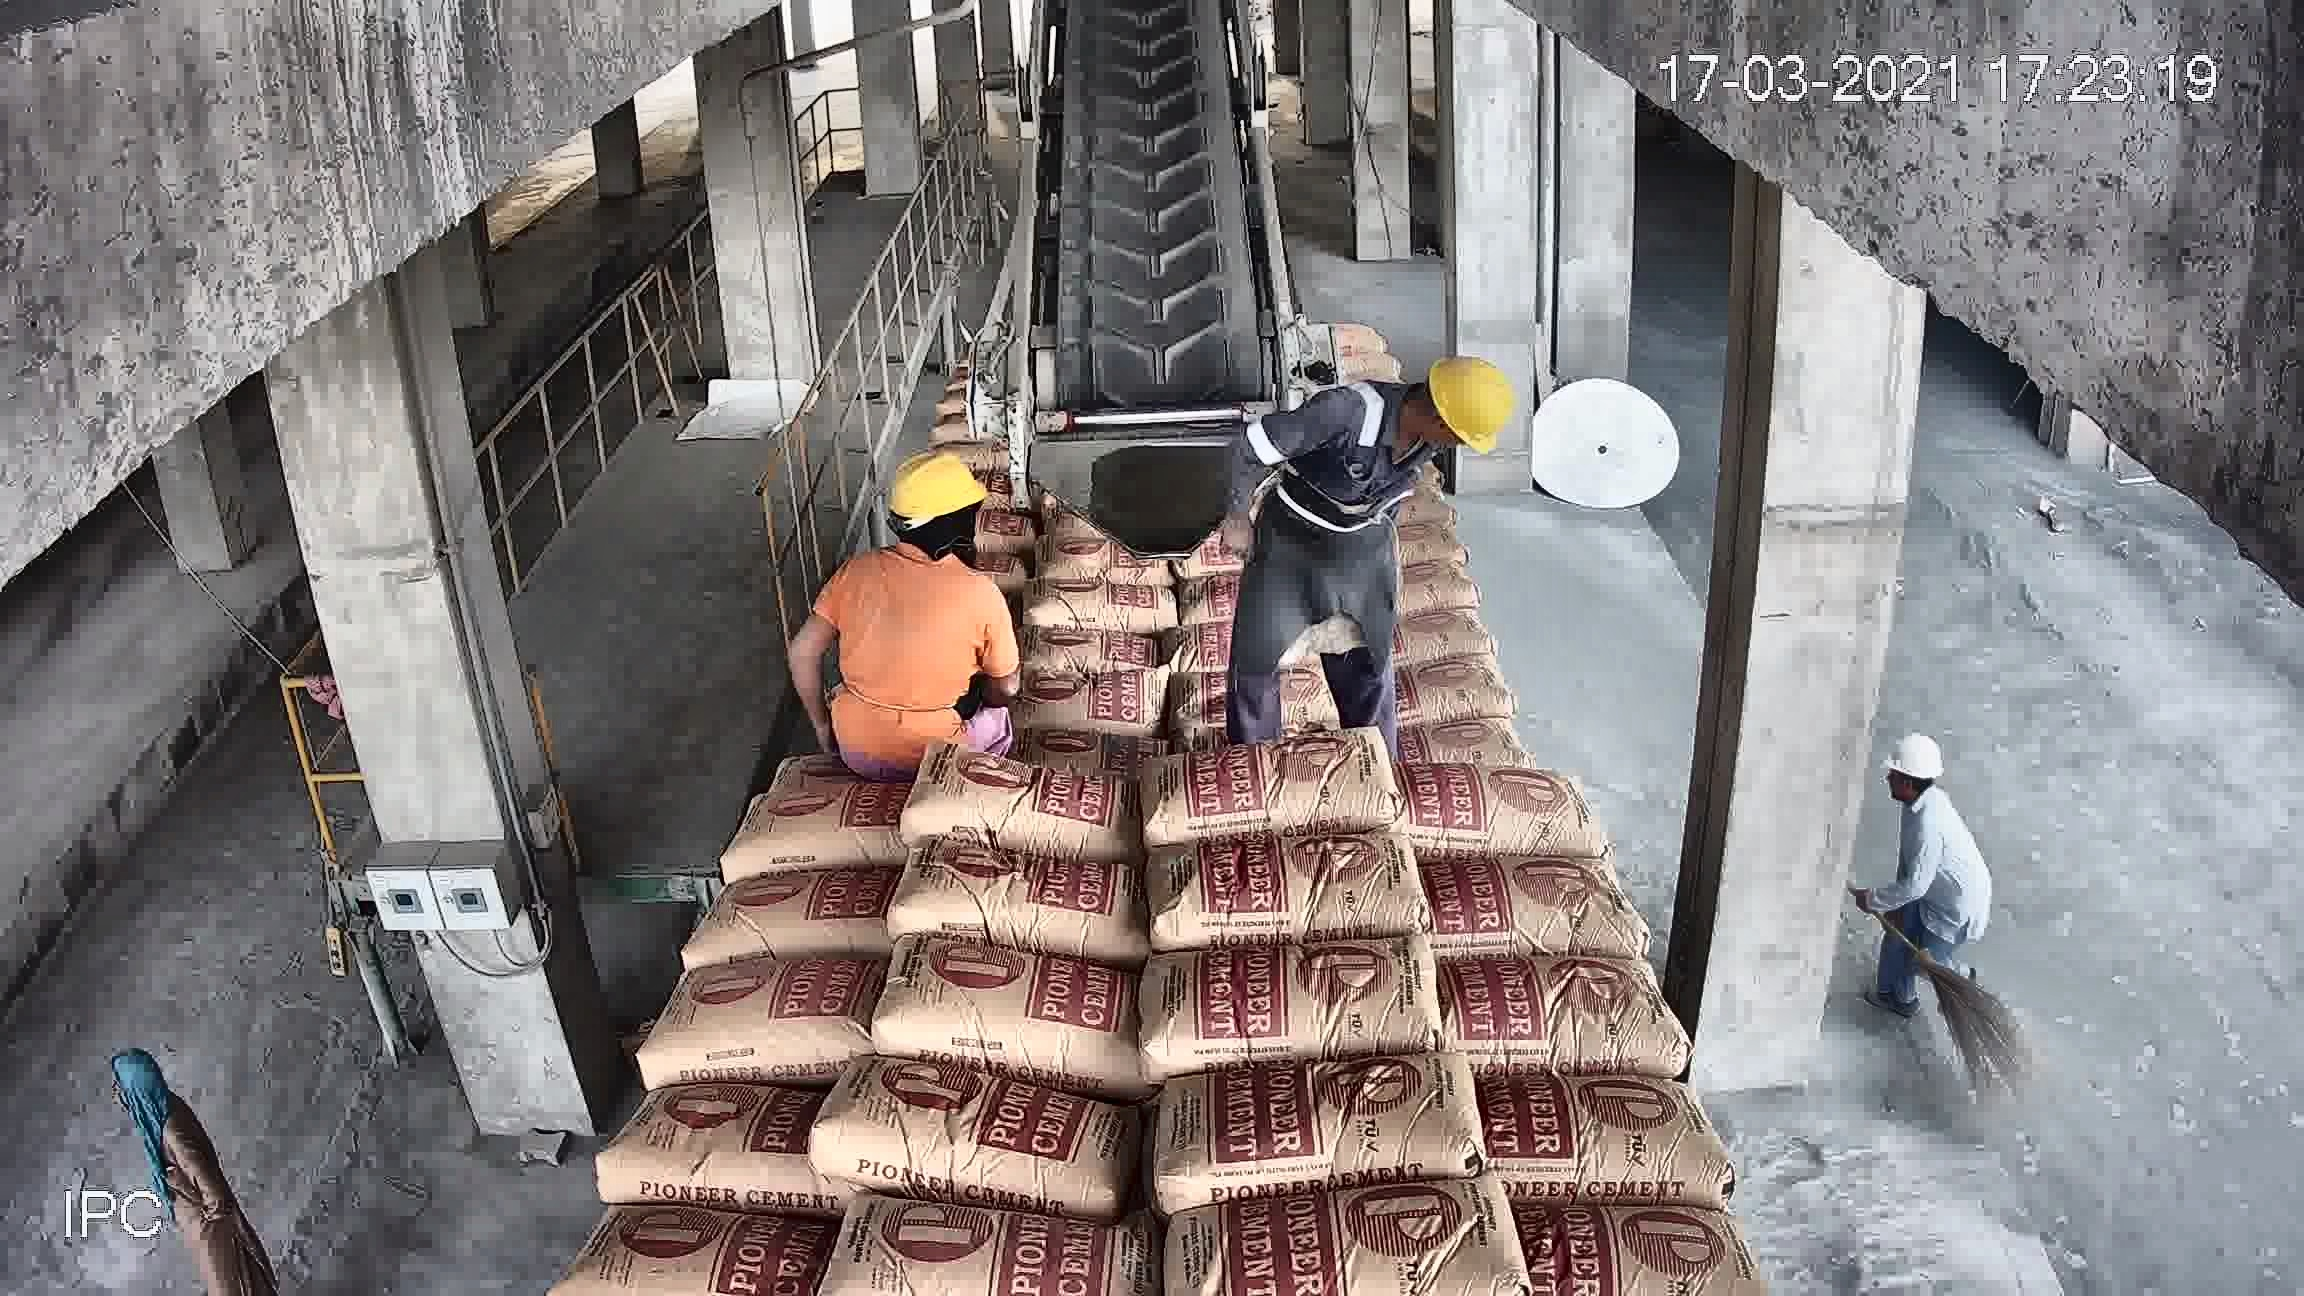bag: (1249, 415, 1423, 498), (1109, 153, 1215, 264)
bag_h: (1127, 1048, 1506, 1217), (809, 1051, 1138, 1204), (1143, 915, 1461, 1070), (1173, 1192, 1556, 1283), (1168, 718, 1404, 855), (1429, 953, 1677, 1081), (1179, 813, 1431, 935), (873, 957, 1157, 1059), (1480, 1082, 1711, 1206), (902, 840, 1157, 948), (604, 1076, 817, 1203), (1429, 829, 1636, 953), (745, 687, 937, 815), (712, 843, 902, 970), (832, 1209, 1146, 1285), (729, 763, 919, 878), (548, 1209, 831, 1285), (655, 964, 877, 1060), (1138, 668, 1385, 748), (1136, 524, 1359, 611), (904, 767, 1146, 847), (1180, 581, 1377, 677), (1532, 1211, 1752, 1296), (1412, 763, 1617, 847), (780, 627, 961, 712), (1369, 623, 1559, 696), (812, 567, 976, 650), (967, 612, 1192, 673), (953, 685, 1144, 752), (1391, 687, 1578, 753), (965, 562, 1152, 619), (1358, 560, 1497, 623), (1081, 484, 1176, 536), (1086, 429, 1188, 464), (926, 459, 984, 506), (1111, 453, 1180, 489), (891, 541, 957, 579), (919, 510, 984, 546)
belt: (1029, 0, 1230, 359)
